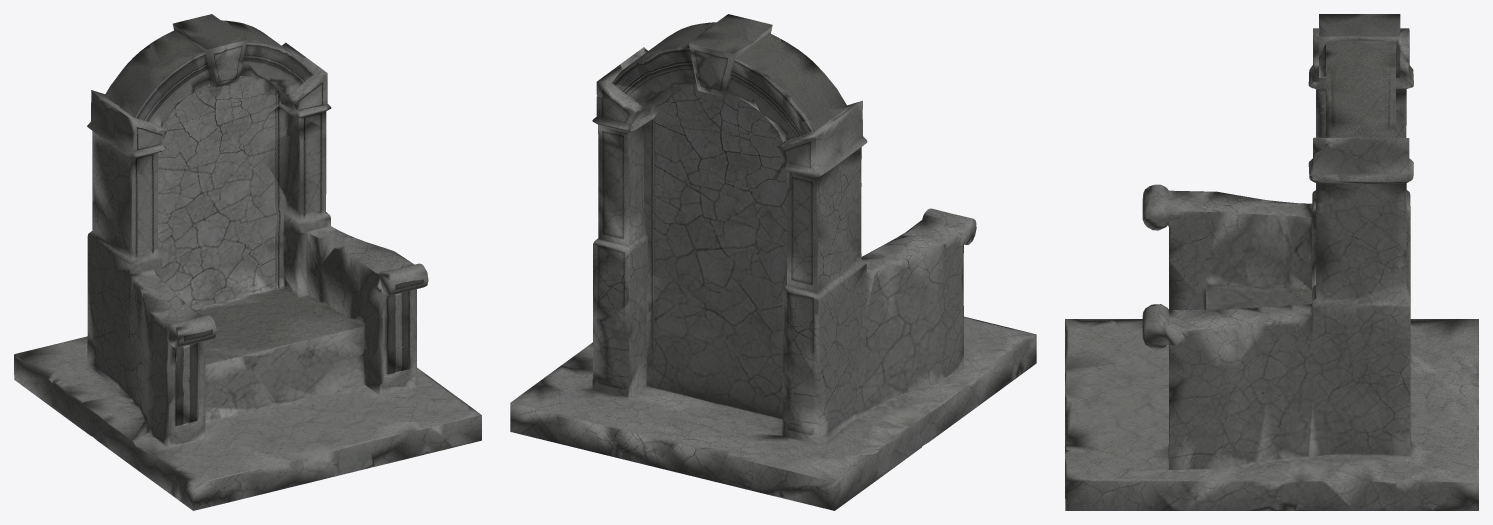
The model's file is marble-throne.glb.
3 renders of one model, left to right at view 1: azimuth 30°, elevation 25°; view 2: azimuth 150°, elevation 25°; view 3: azimuth 270°, elevation 25°, orthographic. The views are drawn at different scales.
Size of the model in its own units: 1.64 by 1.9 by 1.76.
1 material, 1 textured.
